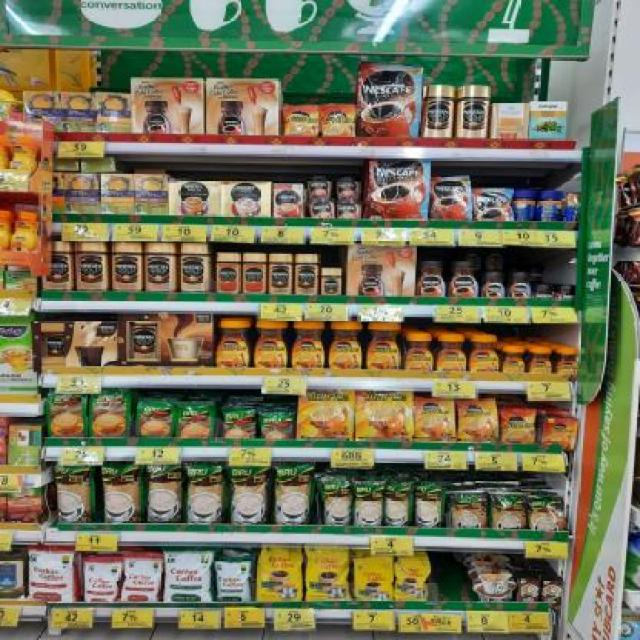Coffee: (358, 68, 420, 137), (368, 161, 432, 219), (413, 397, 456, 441), (456, 399, 498, 444), (366, 322, 402, 370), (213, 320, 250, 366), (290, 322, 326, 369), (432, 176, 472, 218), (458, 85, 490, 137), (328, 321, 363, 368), (77, 240, 109, 290), (422, 85, 452, 138), (254, 320, 286, 368), (111, 240, 142, 289), (147, 242, 175, 292), (181, 243, 210, 291), (472, 189, 513, 220), (501, 410, 536, 444), (49, 240, 72, 289), (418, 258, 447, 296), (437, 333, 466, 370), (322, 104, 356, 134), (268, 253, 292, 295), (471, 336, 498, 372), (407, 333, 433, 370), (286, 107, 320, 135), (295, 254, 317, 294), (452, 262, 477, 296), (480, 272, 505, 298), (509, 270, 531, 298), (558, 348, 580, 375), (530, 346, 552, 372), (504, 346, 524, 372), (322, 268, 341, 294), (558, 284, 576, 298), (536, 284, 552, 298)
